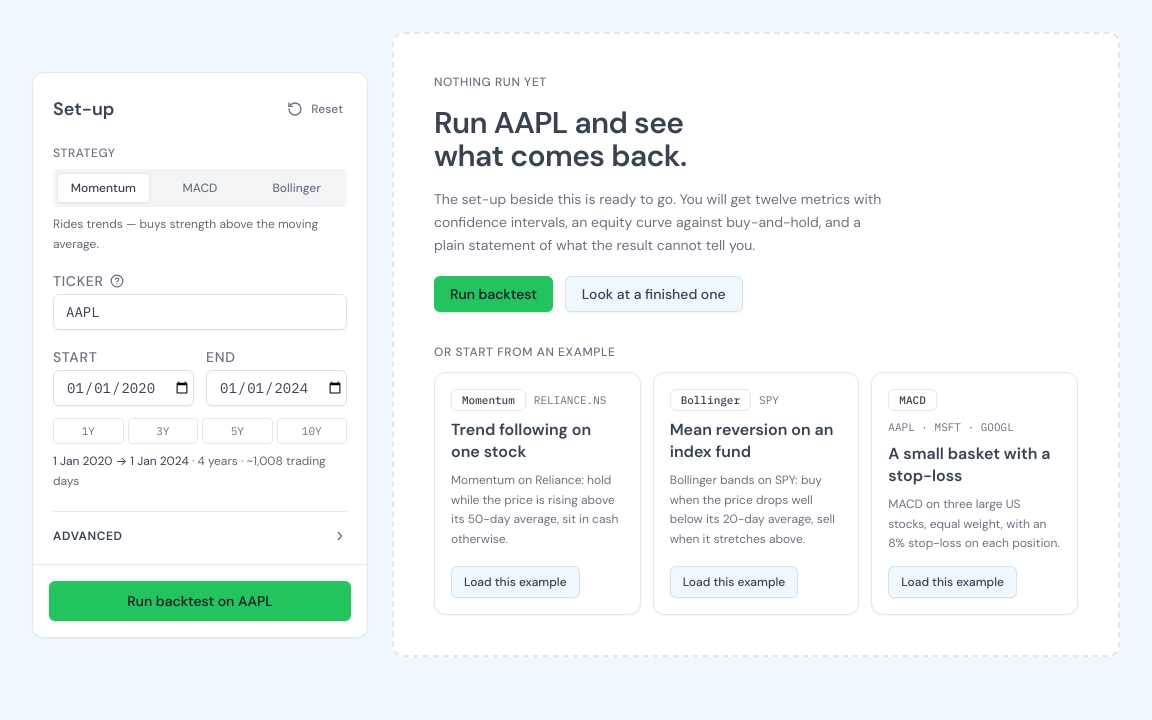
DashboardPage — examples (switch) › loads an example into the panel without running it
Click the button "Load this example" below "Mean reversion on an index fund".
click(734, 582)  # box top-left (670, 566), bottom-right (798, 598)
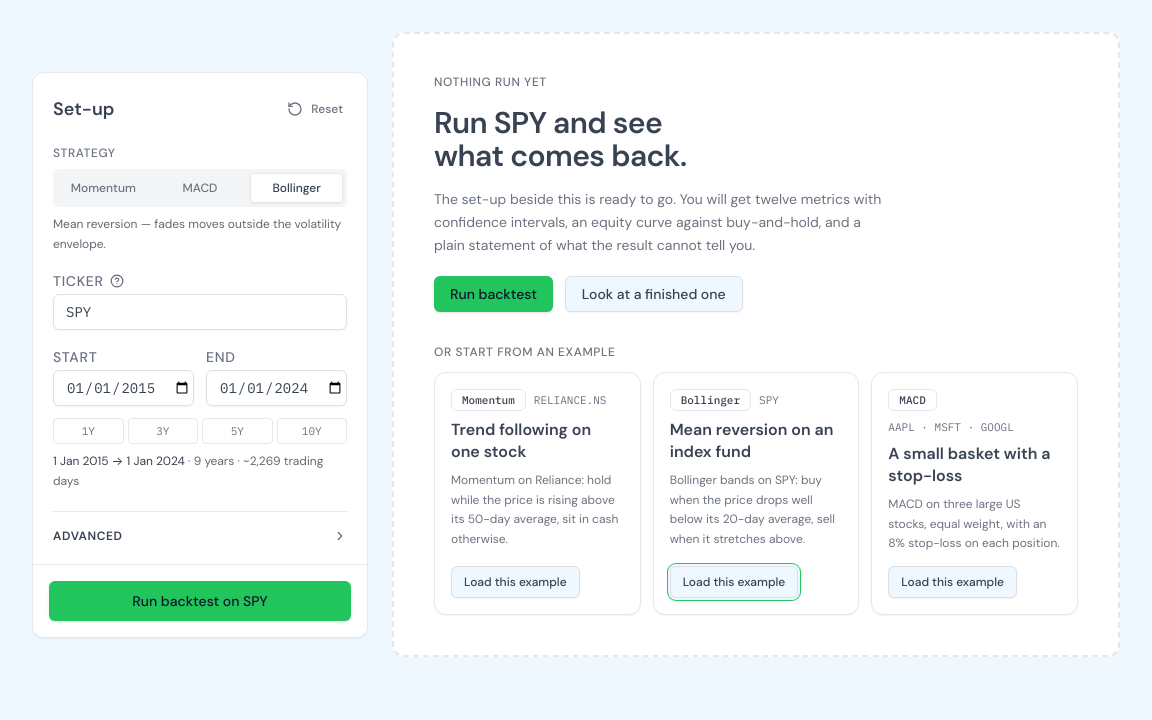
Check: the button "Run backtest on SPY" is shown, box top-left (49, 581), bottom-right (351, 621)
